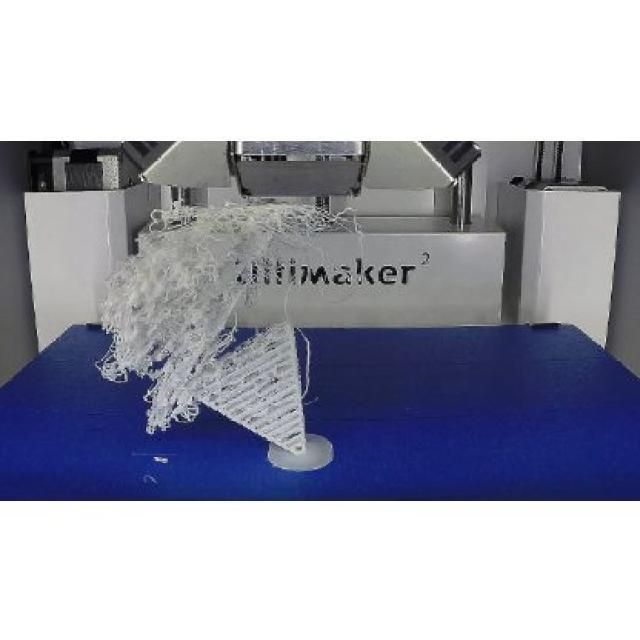spaghetti: (97, 202, 508, 471), (134, 457, 178, 494)
